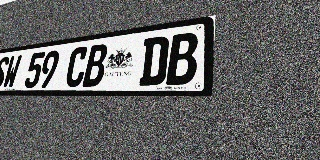5: (23, 52, 46, 88)
9: (37, 50, 61, 88)
B: (166, 31, 199, 85), (82, 43, 109, 87)
C: (64, 46, 89, 87)
D: (139, 35, 170, 86)
S: (0, 56, 10, 89)
W: (2, 55, 22, 88)
